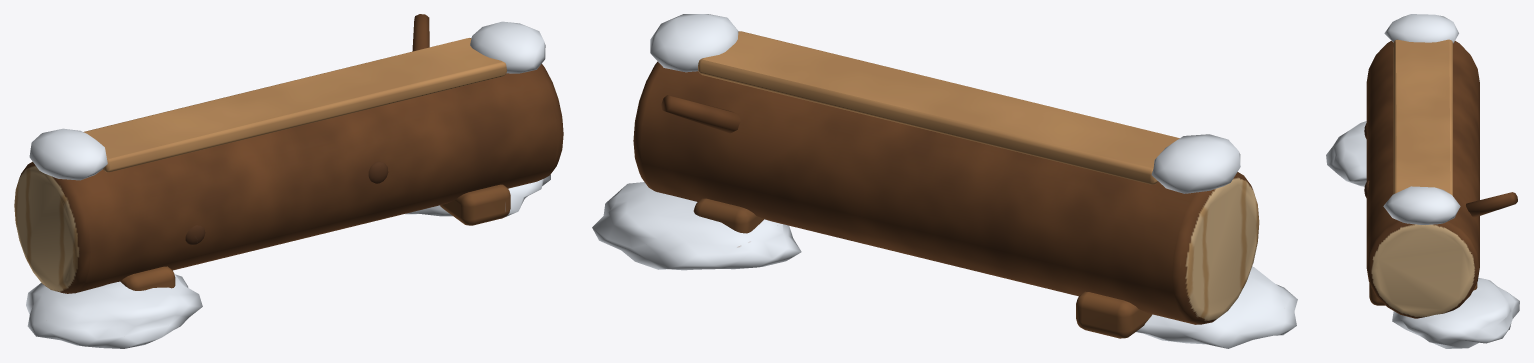
File: log_seat_x.glb
3 renders of one model, left to right at view 1: azimuth 30°, elevation 25°; view 2: azimuth 150°, elevation 25°; view 3: azimuth 270°, elevation 25°, orthographic. The views are drawn at different scales.
Visible parts, largest first — view 1: chock; view 2: chock; view 3: chock.
Part boxes in pixels (x1,y1,x2,y2): chock: [14, 14, 563, 348]; chock: [592, 14, 1297, 348]; chock: [1326, 14, 1519, 348].
Bounding box in the file's own units: 1.82 × 0.5797 × 0.6832.
1 material, 1 textured.
